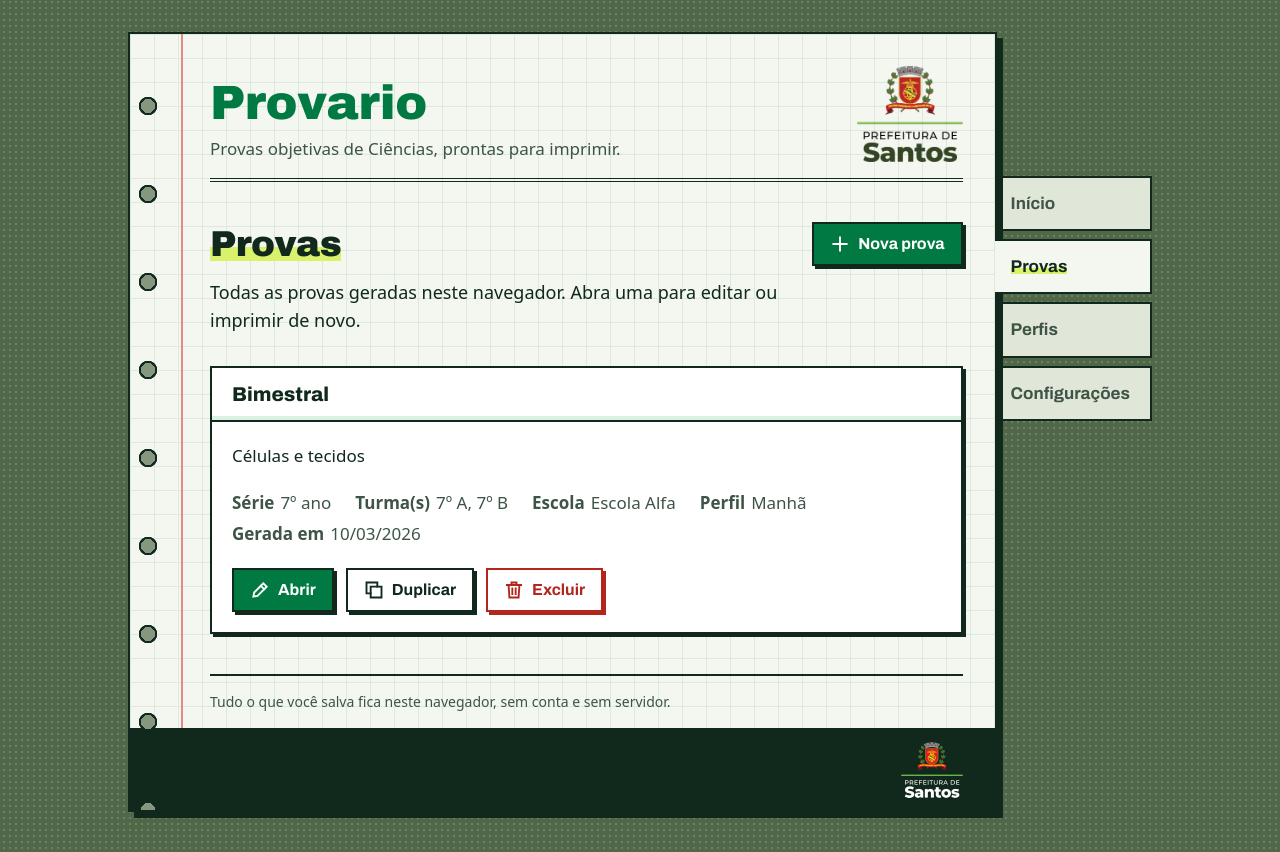
Test case: Provas — duplicar › se faltar espaço no navegador, mostra erro e não navega
Step 1. Click the button with aria-label "Duplicar Bimestral" → (410, 590), box [346, 568, 474, 612]
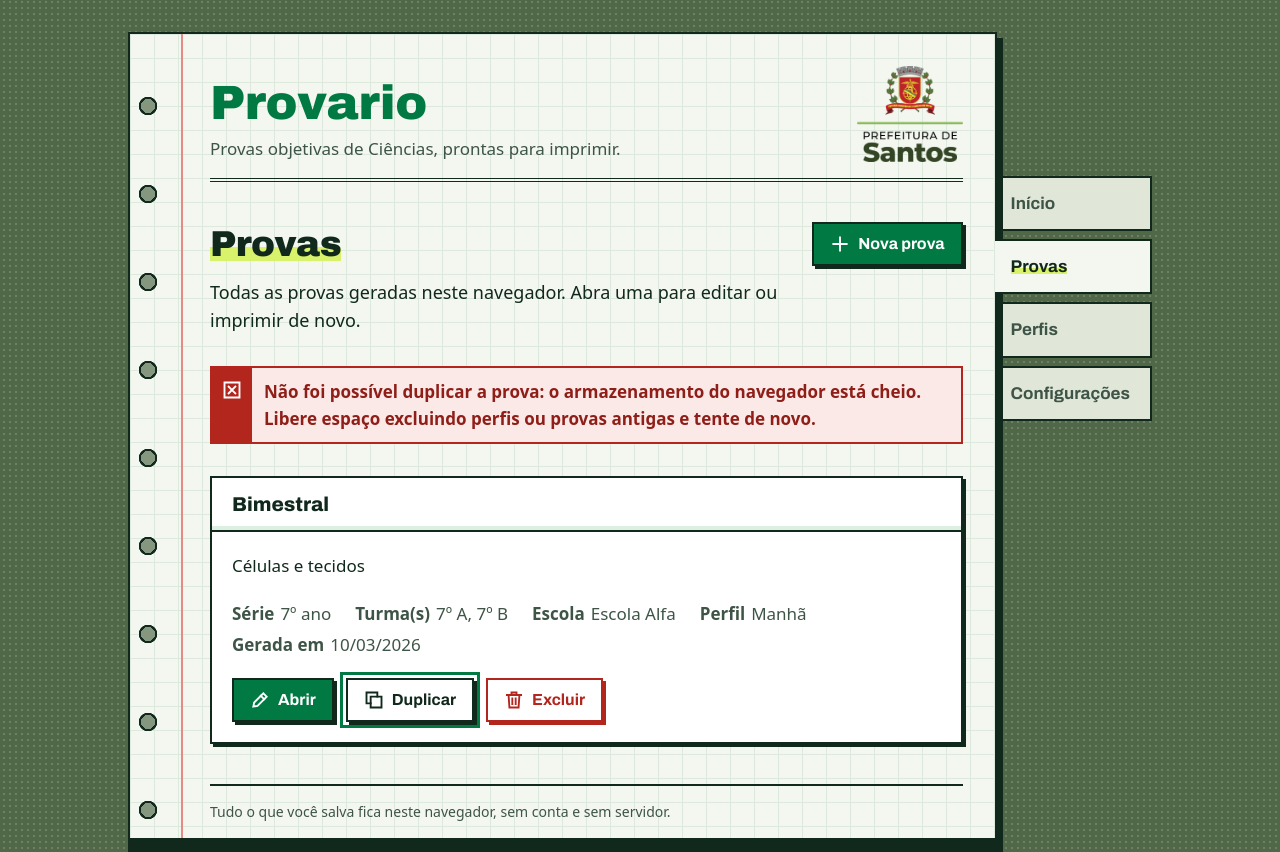
expect the message shows "armazenamento do navegador está cheio": met, box [264, 380, 921, 430]
